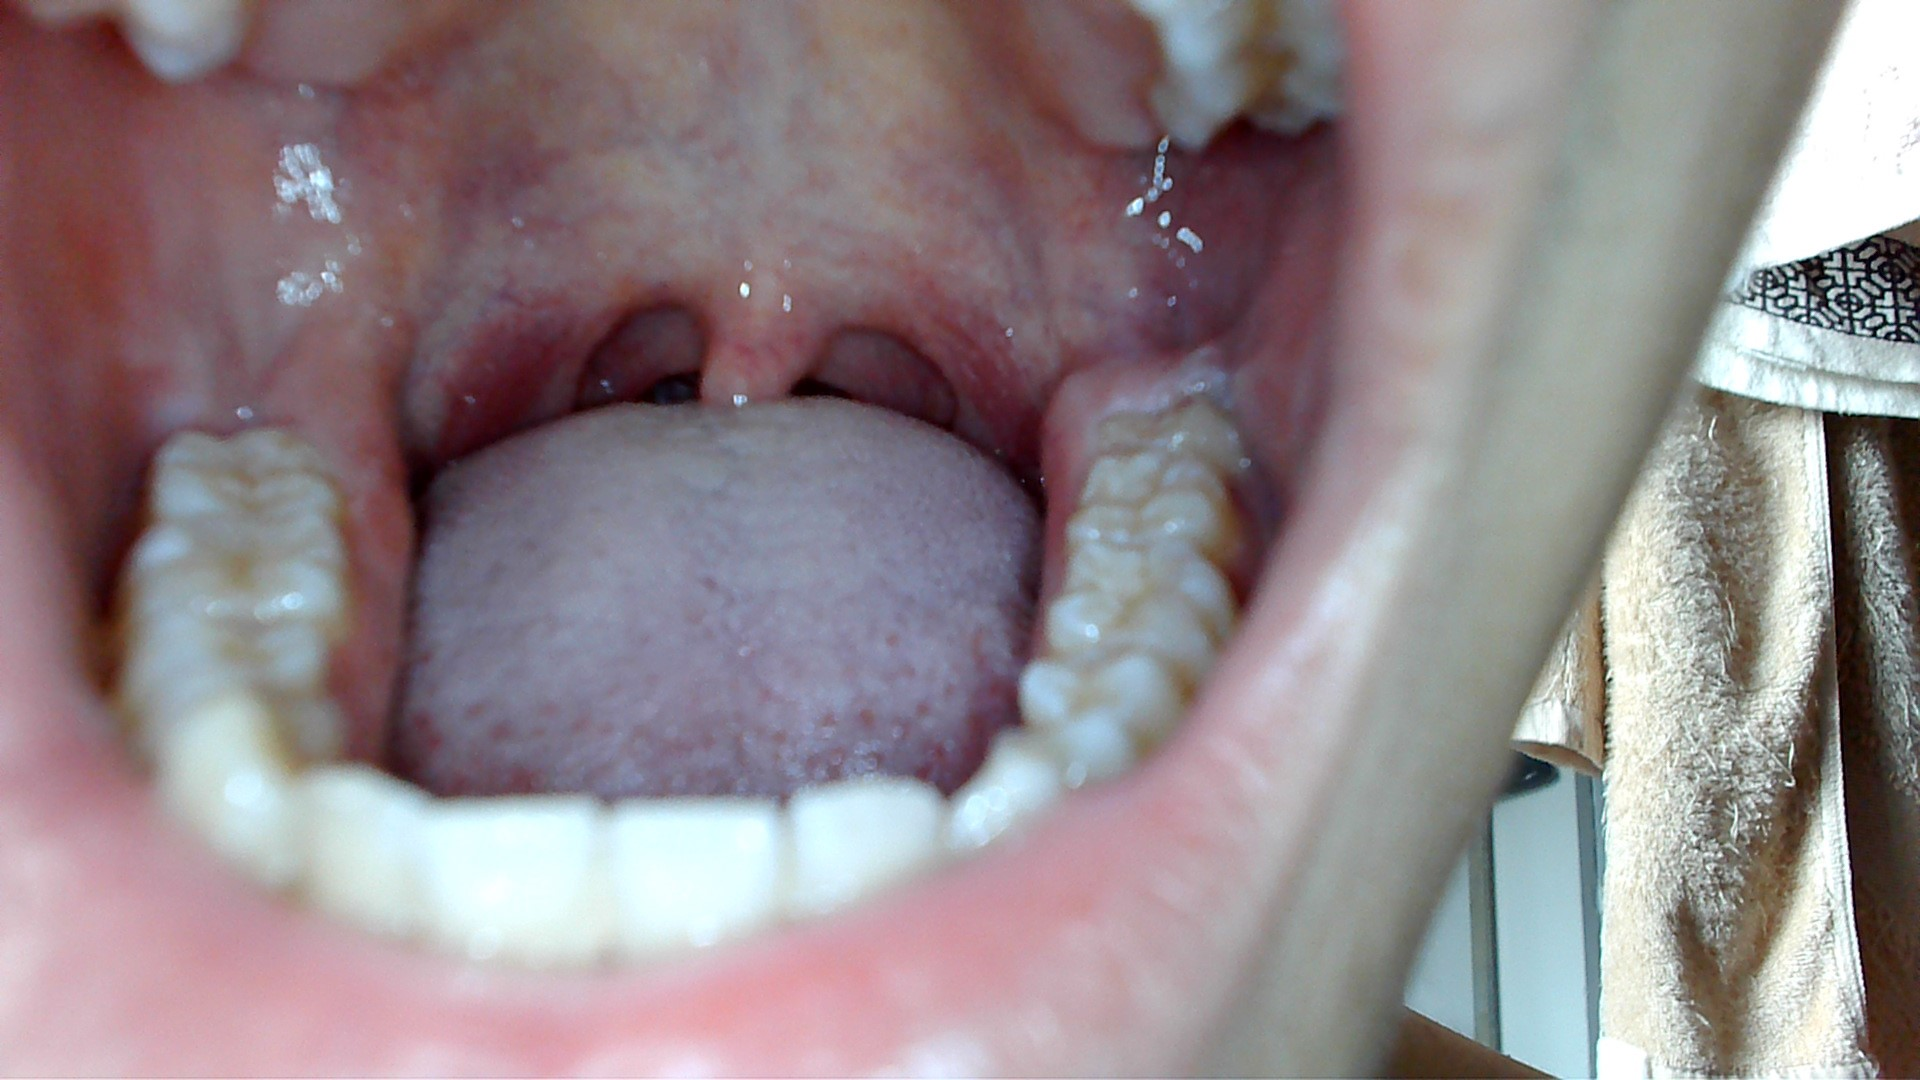throat: (918, 276, 1026, 436), (506, 268, 615, 407)
